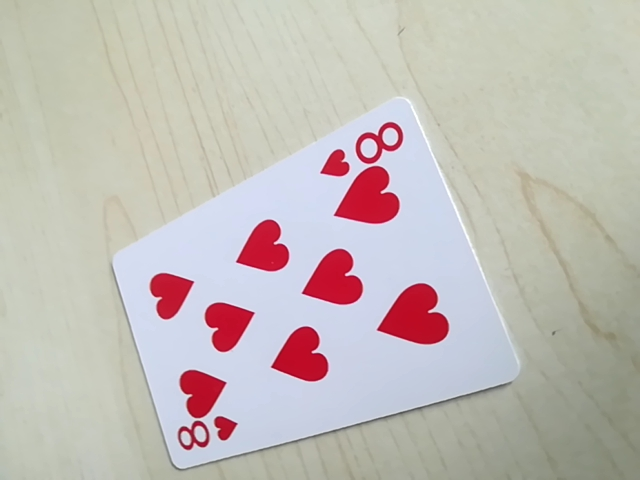hx 8: (319, 119, 409, 175), (171, 413, 241, 461)
